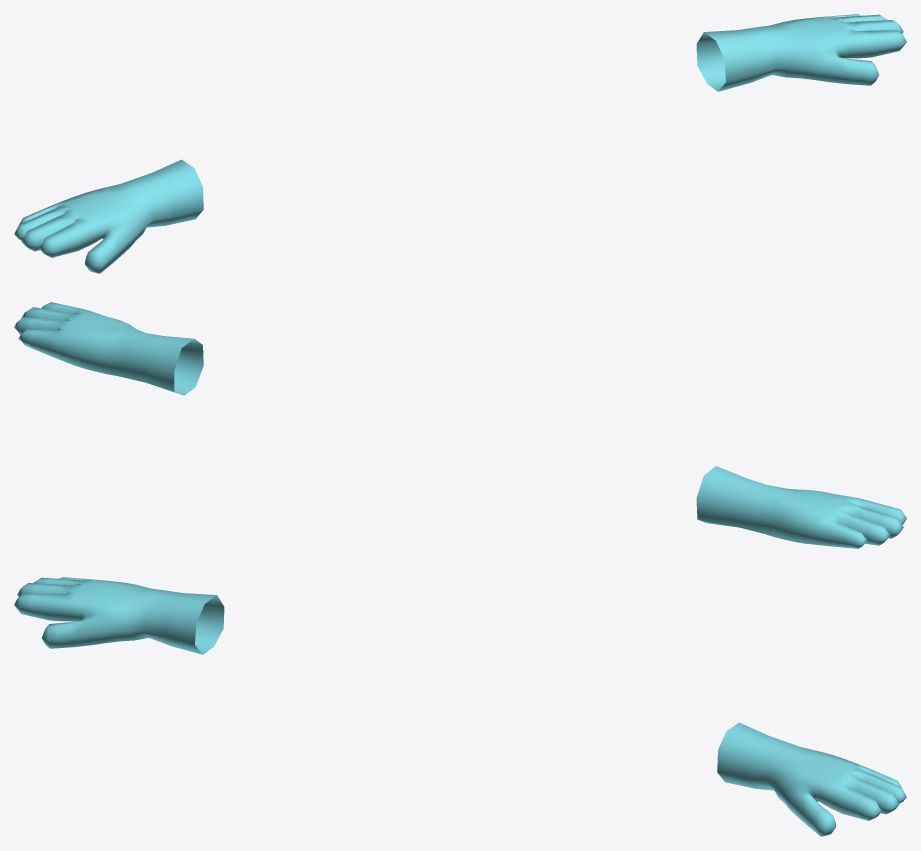
The model's file is Glove_010.glb.
The picture shows the model from 3 angles, top to bottom: view 1: azimuth 30°, elevation 25°; view 2: azimuth 150°, elevation 25°; view 3: azimuth 330°, elevation 25°; orthographic projection.
Parts seen in each view (by area): view 1: Glove_010; view 2: Glove_010; view 3: Glove_010.
Part boxes in pixels (<box>): Glove_010: <box>14,14,906,273</box>; Glove_010: <box>14,302,906,548</box>; Glove_010: <box>14,577,906,836</box>.
Size of the model in its own units: 1.82 by 0.1076 by 0.1887.
1 material, 1 textured.
